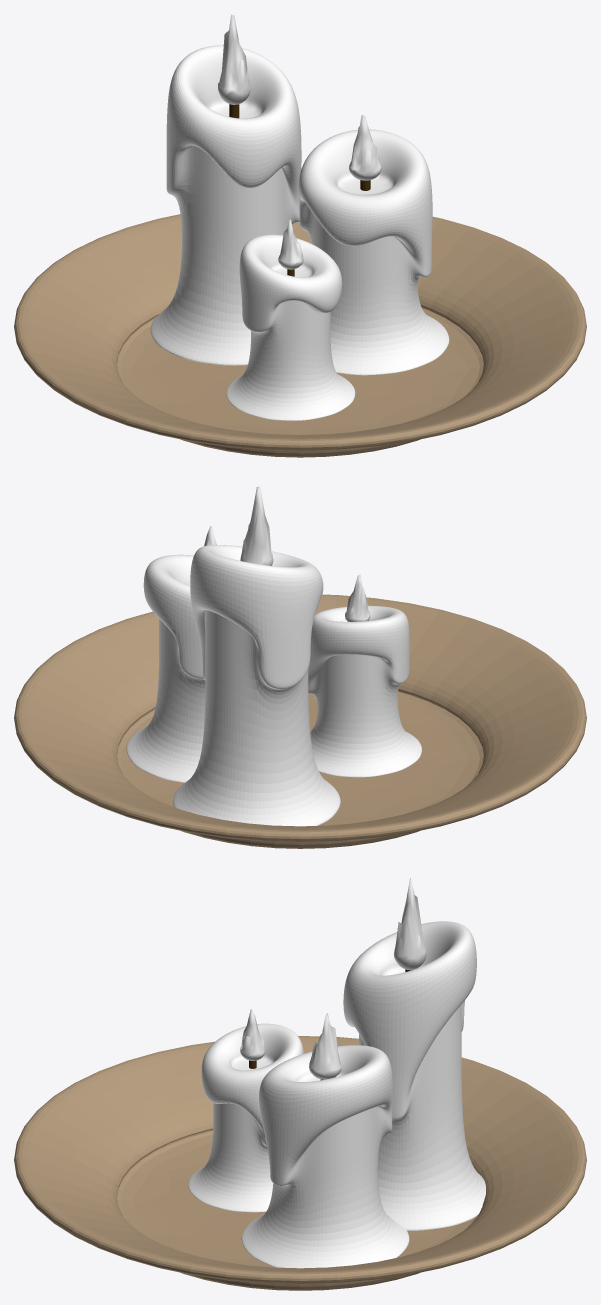
File: candle.fbx
3 views of the same model, one above another, from view 1: azimuth 30°, elevation 25°; view 2: azimuth 150°, elevation 25°; view 3: azimuth 270°, elevation 25° (orthographic).
Parts seen in each view (by area): view 1: Circle.001, Circle, Circle.004, Circle.002, Roundcube, Roundcube.002, Roundcube.001; view 2: Circle.001, Circle, Circle.002, Circle.004, Roundcube, Roundcube.001; view 3: Circle.001, Circle, Circle.004, Circle.002, Roundcube, Roundcube.002, Roundcube.001.
Part boxes in pixels (box(x1,y1,x2,y2)): Circle.001: box(14, 214, 586, 457); Circle: box(150, 45, 301, 365); Circle.004: box(298, 129, 449, 375); Circle.002: box(226, 234, 355, 420); Roundcube: box(218, 14, 250, 104); Roundcube.002: box(349, 115, 381, 180); Roundcube.001: box(278, 219, 303, 269); Circle.001: box(14, 594, 586, 848); Circle: box(173, 545, 340, 826); Circle.002: box(308, 605, 421, 777); Circle.004: box(126, 554, 205, 782); Roundcube: box(240, 486, 273, 565); Roundcube.001: box(345, 574, 370, 621); Circle.001: box(14, 1036, 586, 1290); Circle: box(343, 921, 485, 1230); Circle.004: box(241, 1045, 409, 1268); Circle.002: box(188, 1023, 303, 1212); Roundcube: box(393, 878, 426, 970); Roundcube.002: box(309, 1013, 341, 1079); Roundcube.001: box(240, 1009, 265, 1060).
Size of the model in its own units: 829 by 524 by 829.
